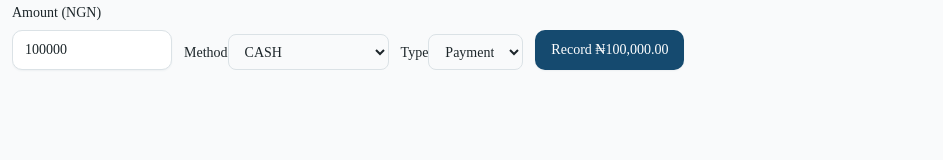
recording a payment that is refused › shows the server's own reason: Issue the invoice before recording payment
This screenshot has width=943, height=160.
Replace the text in the field labelled "Amount (NGN)" with "100". click: coordinates (92, 50)
box: left=12, top=30, right=172, bottom=70
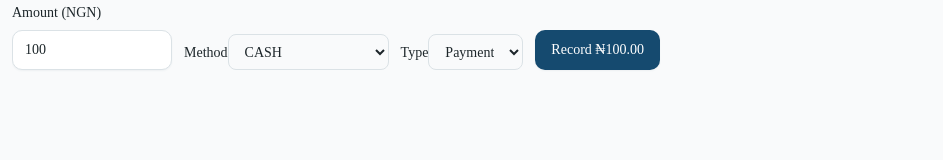
Click the button "Record ₦100.00". click: coordinates (598, 50)
box: left=535, top=30, right=660, bottom=70
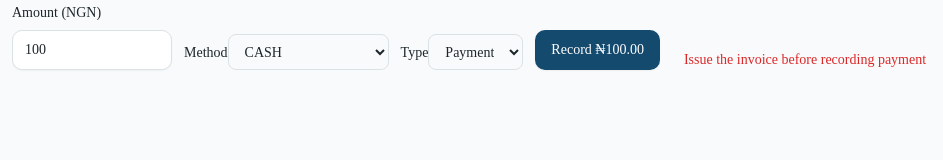
Result: the text "Issue the invoice before recording payment" is shown at left=684, top=50, right=926, bottom=70
